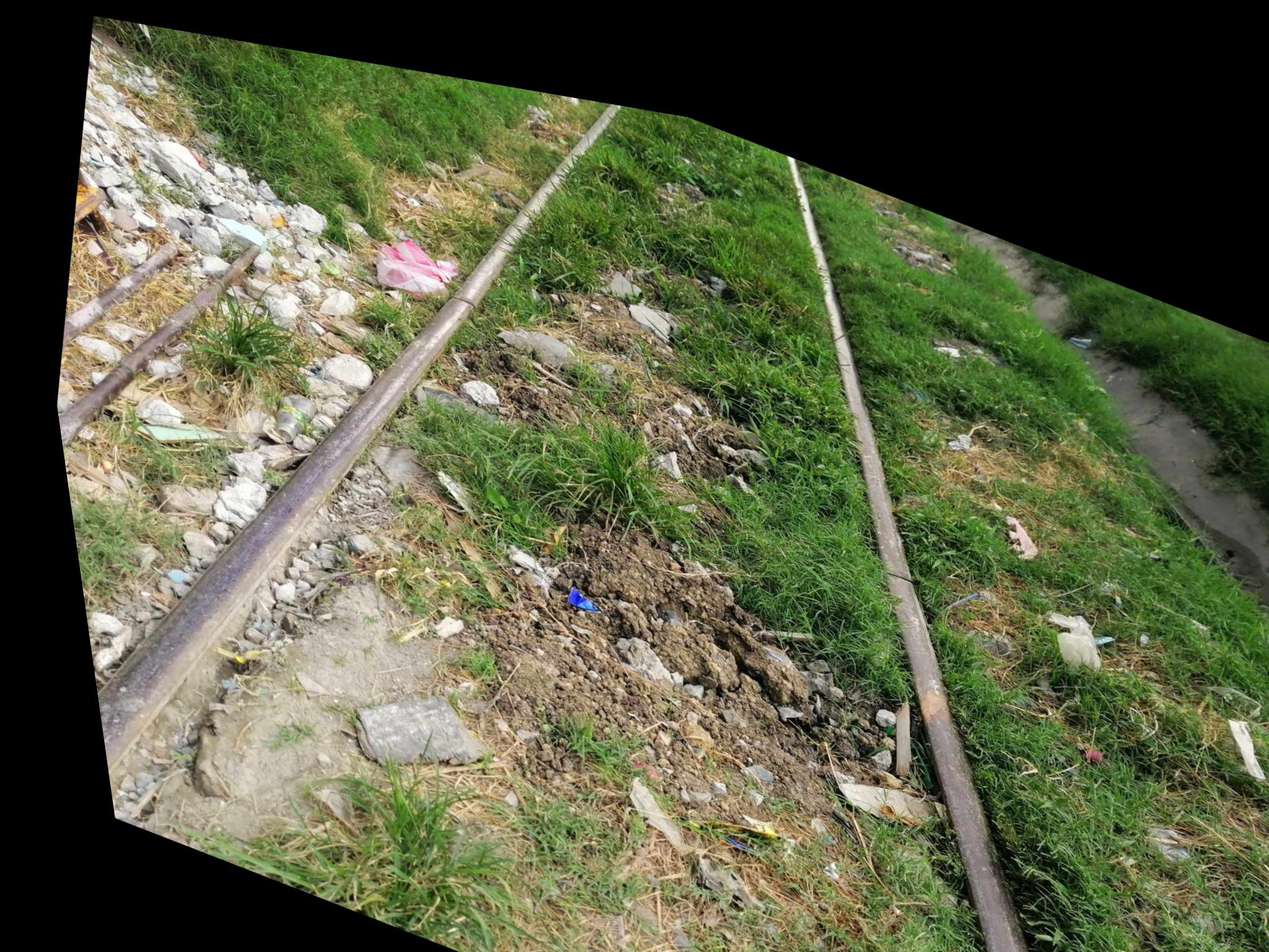person: (403, 234, 512, 342), (835, 496, 940, 599)
